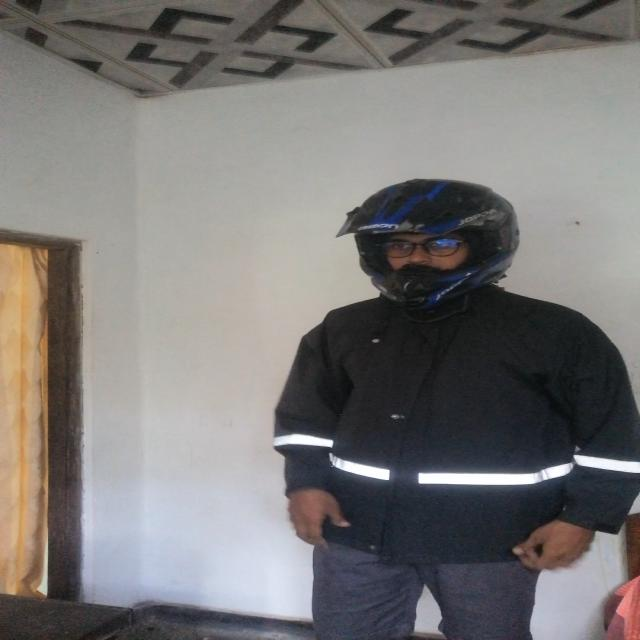Helmet_Wearer: (338, 171, 525, 290)
Jacket_Wearer: (229, 280, 640, 559)
